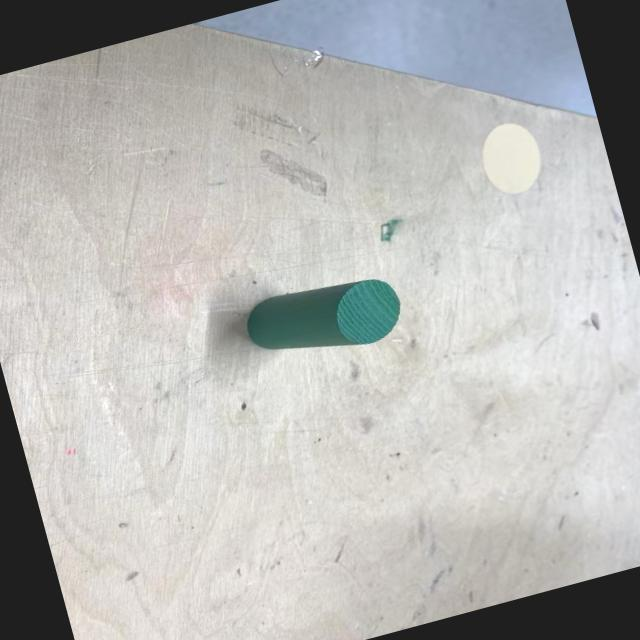green_cylinder: (238, 263, 410, 375)
